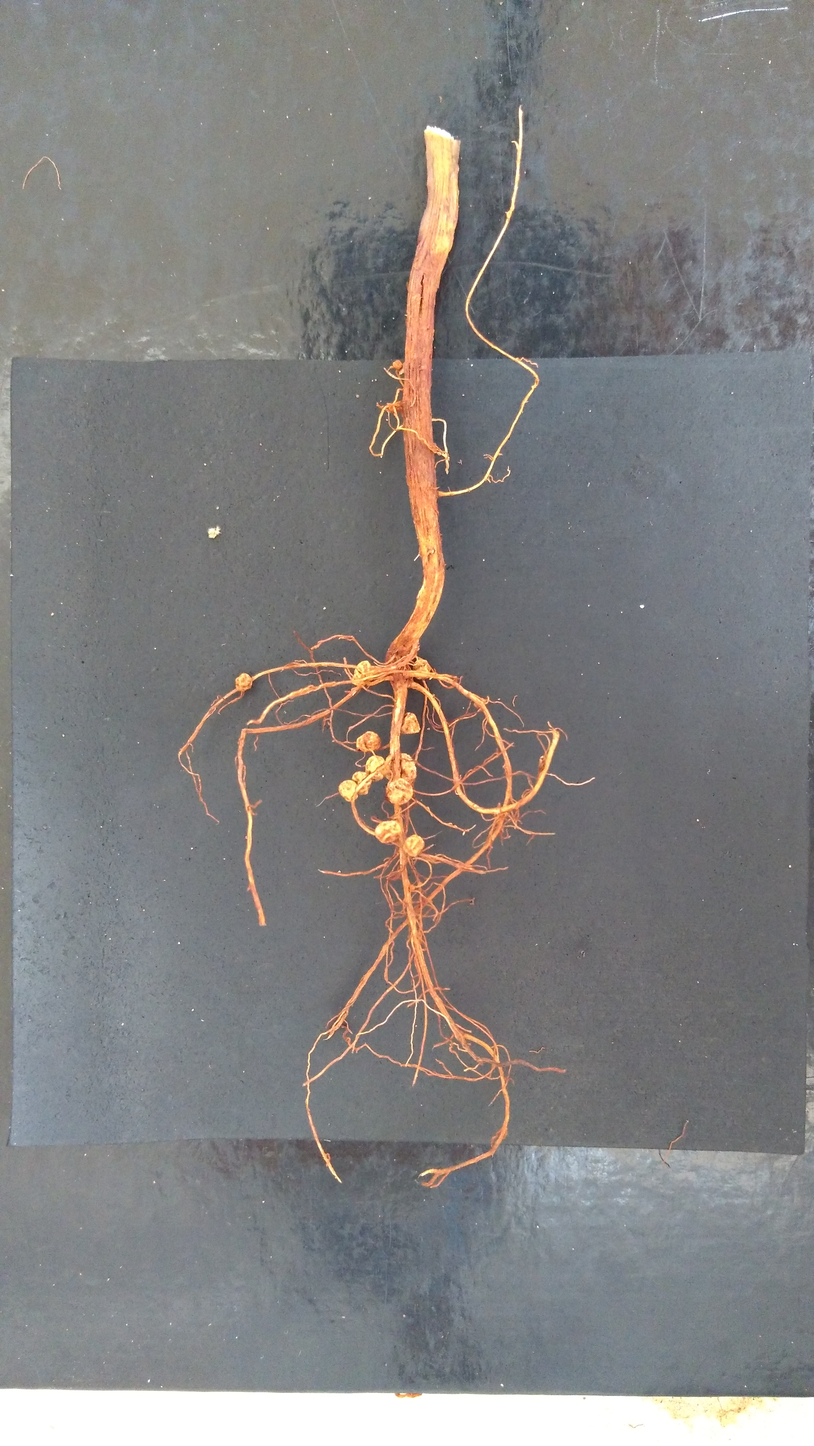nodule: (370, 818, 403, 846), (384, 776, 414, 806), (364, 754, 387, 783), (399, 750, 418, 785), (355, 730, 383, 752), (401, 833, 426, 857), (351, 769, 373, 796), (350, 659, 371, 687), (399, 711, 421, 736), (337, 778, 359, 803), (234, 671, 255, 694), (412, 657, 432, 681), (392, 359, 402, 369)
